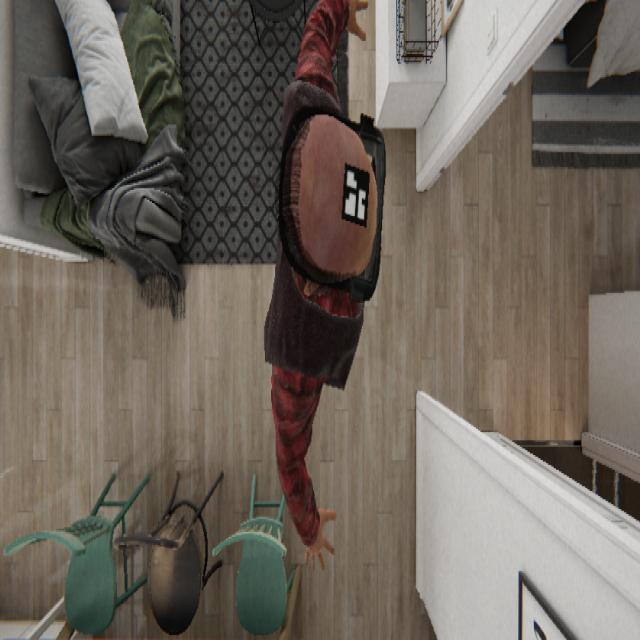AruCO: (340, 159, 370, 229)
Human: (262, 0, 385, 571)
